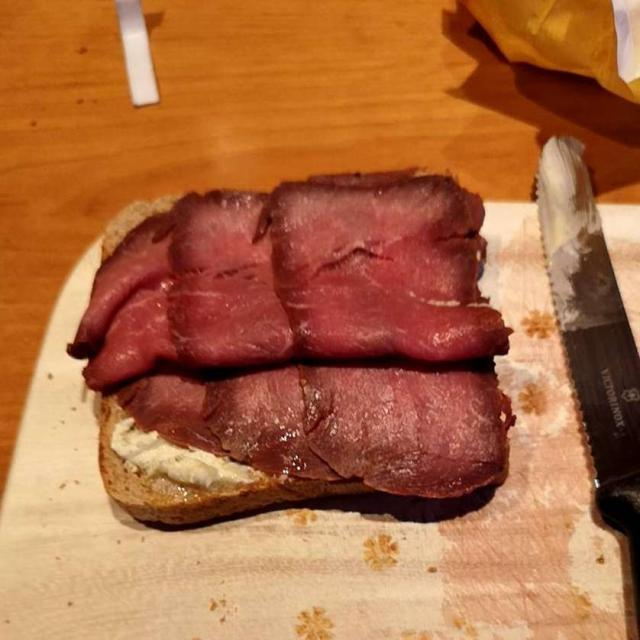beef: (85, 174, 518, 504)
bread: (99, 400, 302, 518)
cream-cheese: (125, 419, 253, 486)
